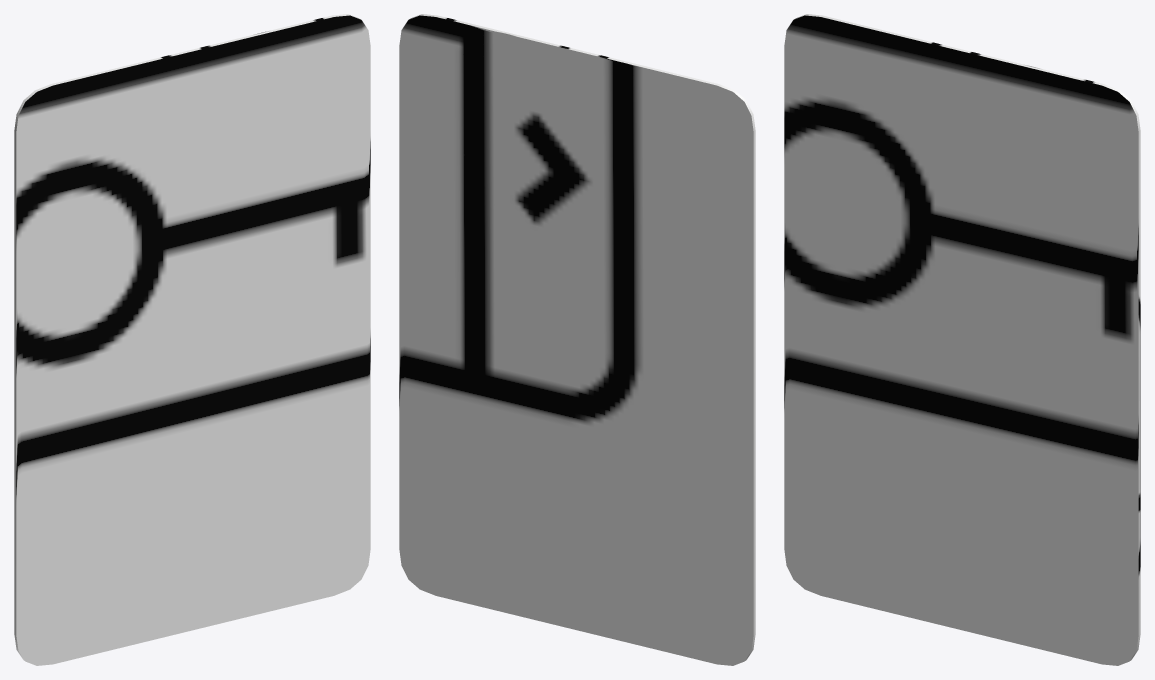
File: Keycard.fbx
The picture shows the model from 3 angles, left to right: view 1: azimuth 30°, elevation 25°; view 2: azimuth 150°, elevation 25°; view 3: azimuth 330°, elevation 25°; orthographic projection.
Visible parts, largest first — view 1: Keycard; view 2: Keycard; view 3: Keycard.
Part boxes in pixels (<box>): Keycard: <box>14,14,370,665</box>; Keycard: <box>399,14,755,665</box>; Keycard: <box>784,14,1140,665</box>.
Size of the model in its own units: 860 by 1342 by 8.42.
